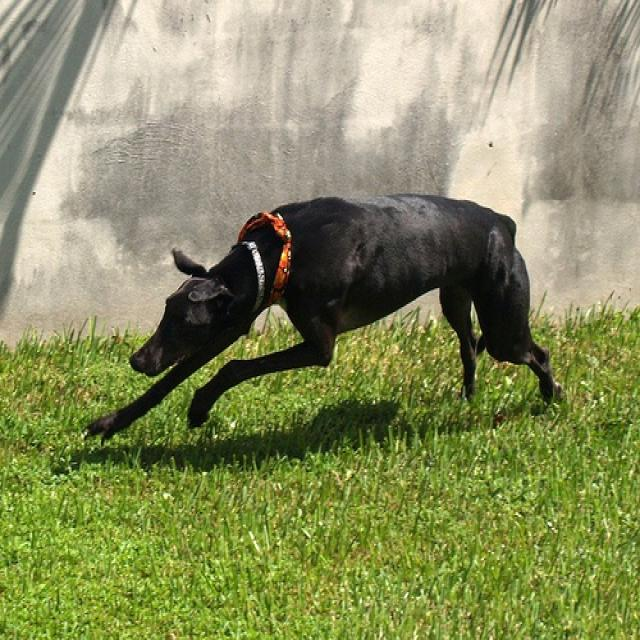dog: (83, 192, 562, 440)
